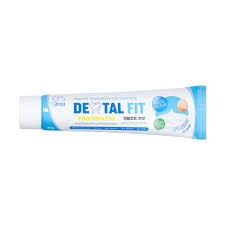toothpaste: (5, 89, 214, 144)
